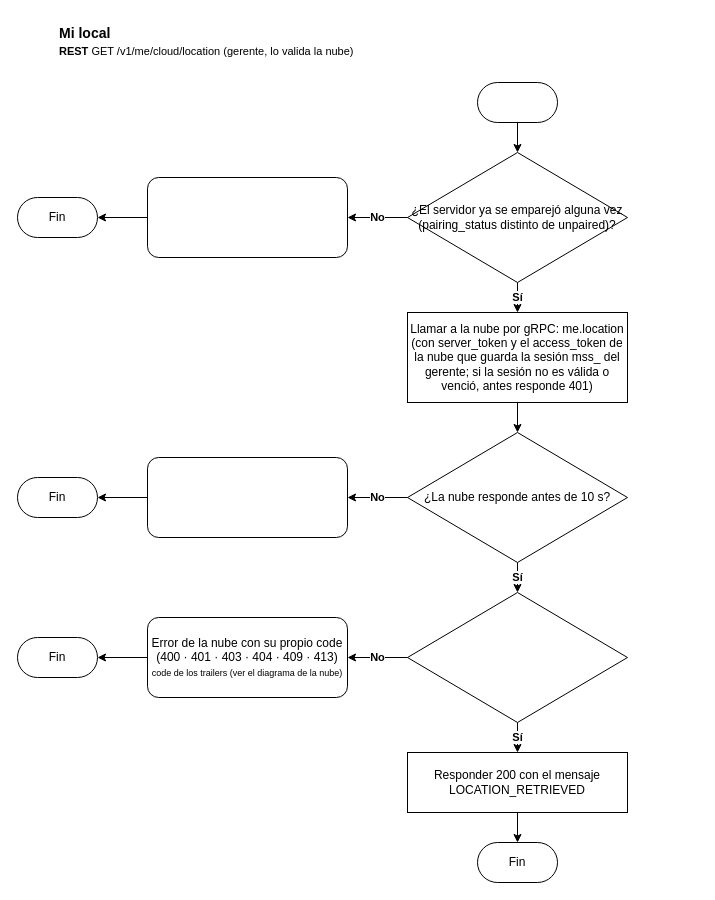
Some shapes in this 715 by 900 pixel diagram are drawn without their labels. Here are the shapes that lost their labels. From the top down, the centre of each, then its label:
point 517,102: Inicio
point 247,217: Servidor sin emparejar (409) ERROR_SERVER_NOT_PAIRED
point 247,497: La nube no responde (503) ERROR_CLOUD_UNAVAILABLE · ERROR_SERVER_UNLINKED
point 517,657: ¿La nube acepta la petición?
